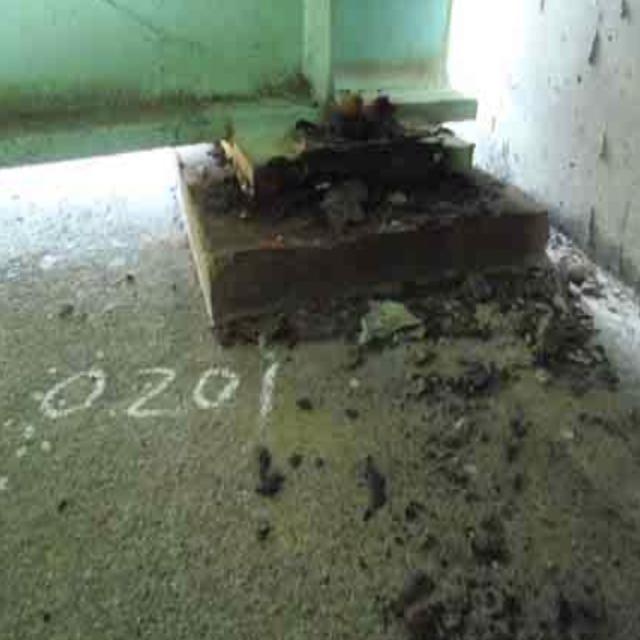corrosion: (208, 97, 472, 214)
